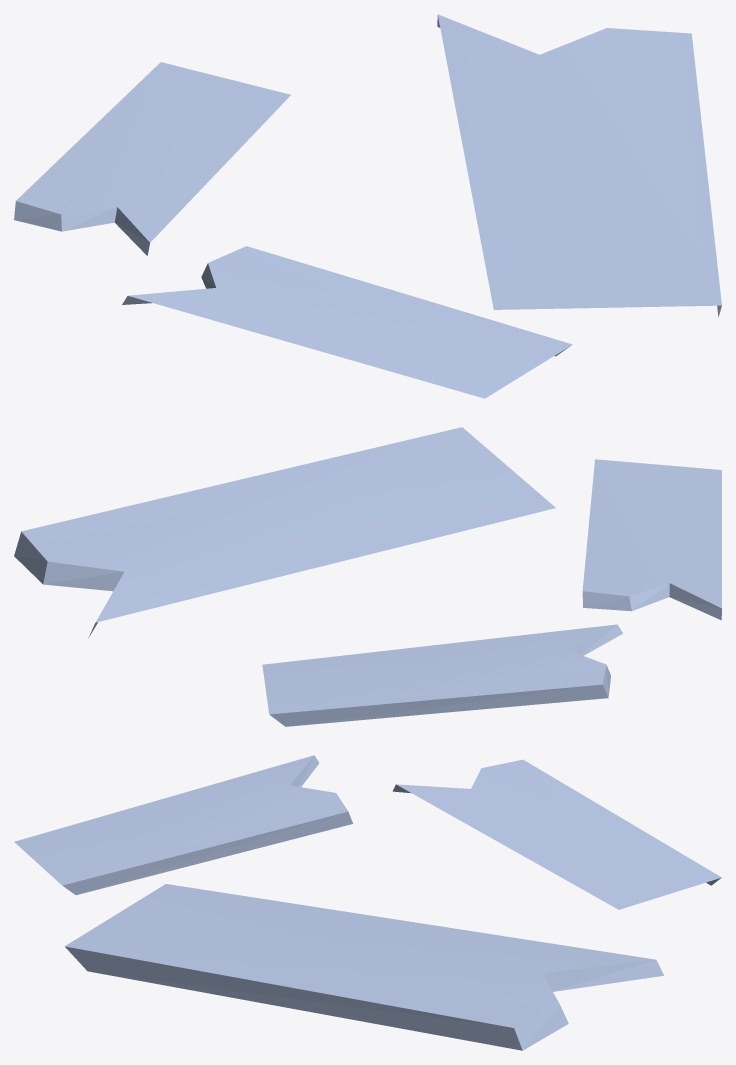
The picture shows the model from 3 angles, top to bottom: view 1: azimuth 30°, elevation 25°; view 2: azimuth 150°, elevation 25°; view 3: azimuth 270°, elevation 25°; orthographic projection. The views are drawn at different scales.
Parts seen in each view (by area): view 1: Object56; view 2: Object56; view 3: Object56.
Boxes of the visible parts, x1,y1,x2,y2 form: Object56: [14, 14, 721, 398]; Object56: [14, 427, 721, 726]; Object56: [14, 755, 721, 1050].
Bounding box in the file's own units: 153 × 9.15 × 162.
